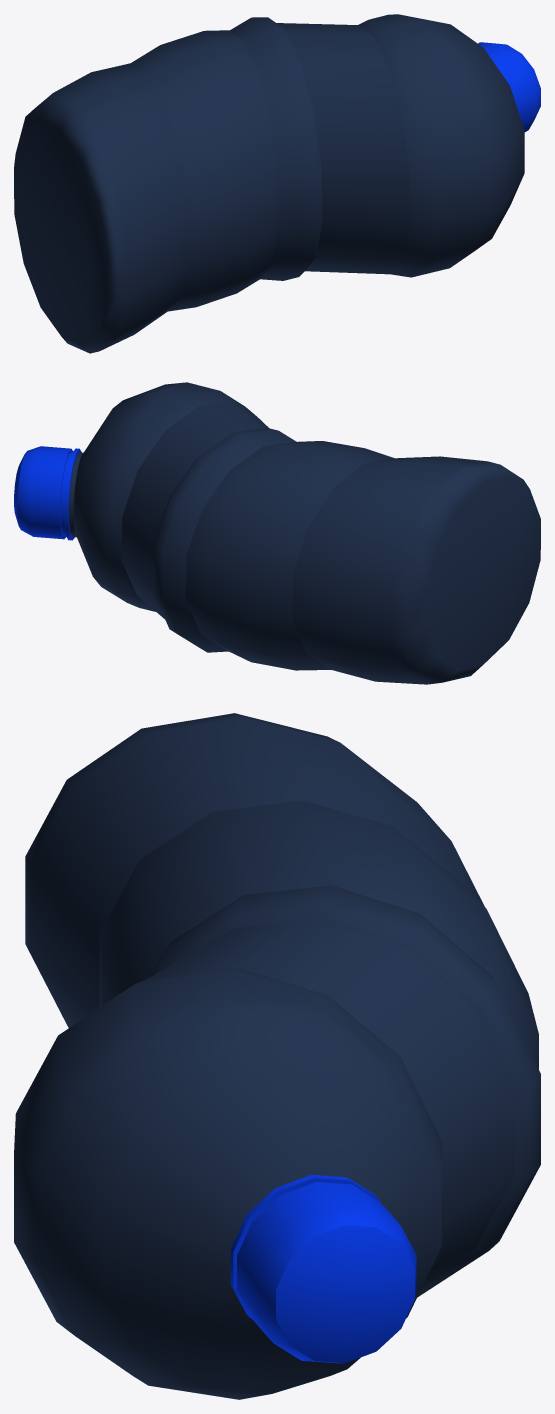
File: SM_MCGarbages_Mesh03.FBX
3 views of the same model, one above another, from view 1: azimuth 30°, elevation 25°; view 2: azimuth 150°, elevation 25°; view 3: azimuth 270°, elevation 25° (orthographic). The views are drawn at different scales.
Visible parts, largest first — view 1: SM_MCGarbages_Mesh03; view 2: SM_MCGarbages_Mesh03; view 3: SM_MCGarbages_Mesh03.
Part boxes in pixels (x1=…): SM_MCGarbages_Mesh03: x1=14, y1=14, x2=540, y2=353; SM_MCGarbages_Mesh03: x1=14, y1=382, x2=540, y2=684; SM_MCGarbages_Mesh03: x1=14, y1=713, x2=540, y2=1399.
Size of what is drawn, in the model's own units: 27.53 by 14.72 by 12.58.
